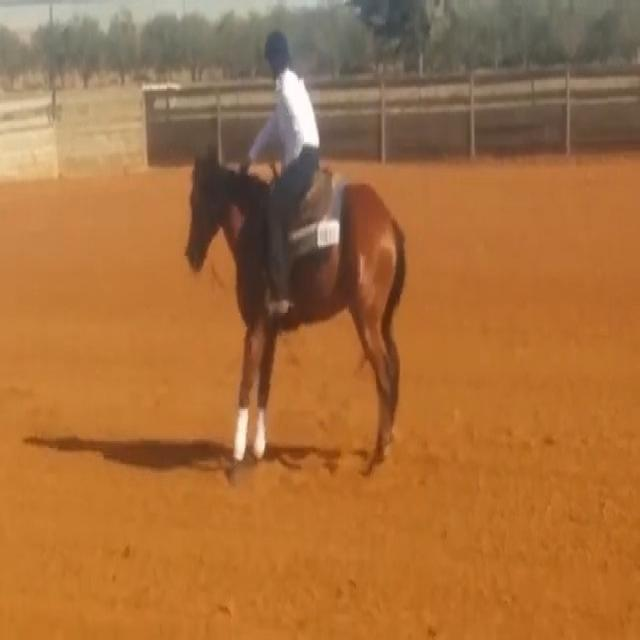horse: (181, 146, 407, 476)
